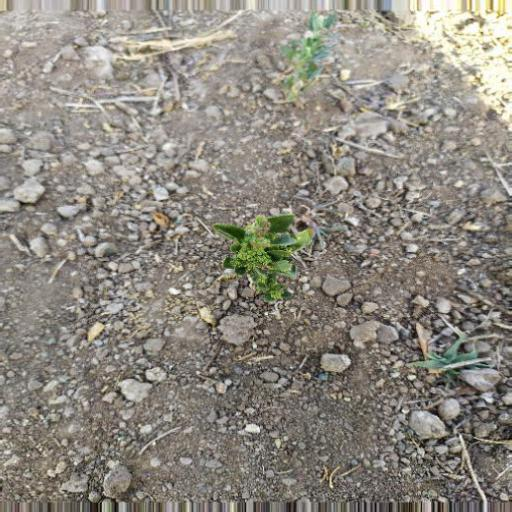weed: (211, 207, 312, 304), (268, 18, 355, 128)
